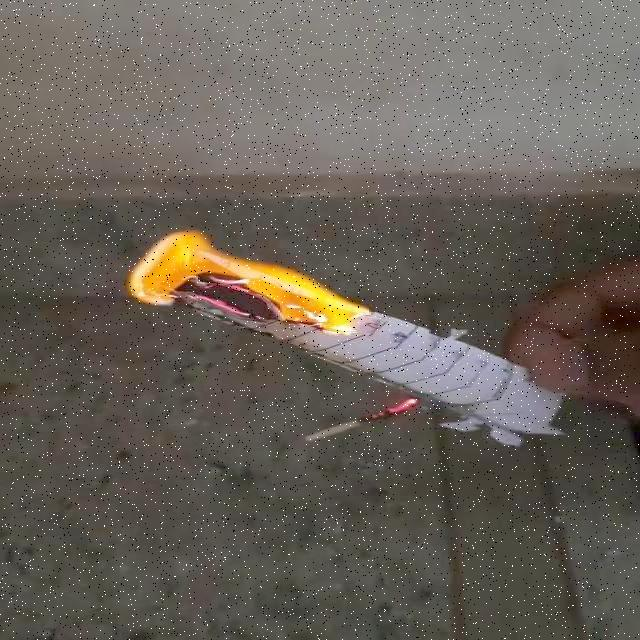fire: (125, 222, 366, 340)
